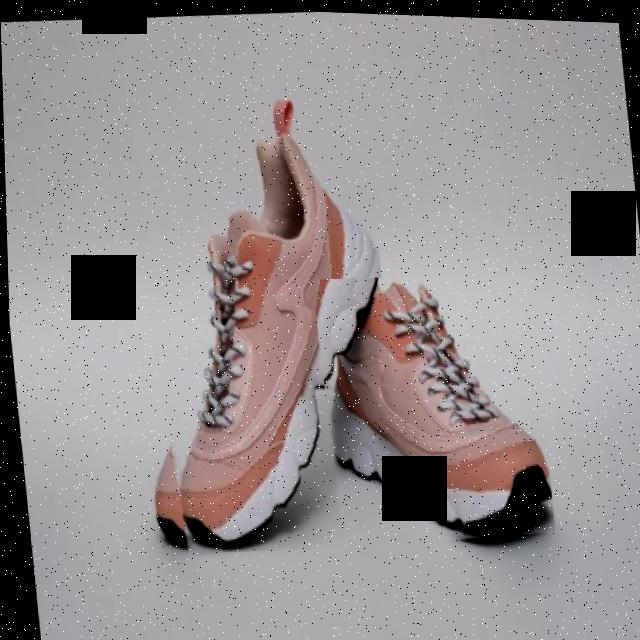shoe: (116, 106, 404, 560), (309, 261, 553, 552)
